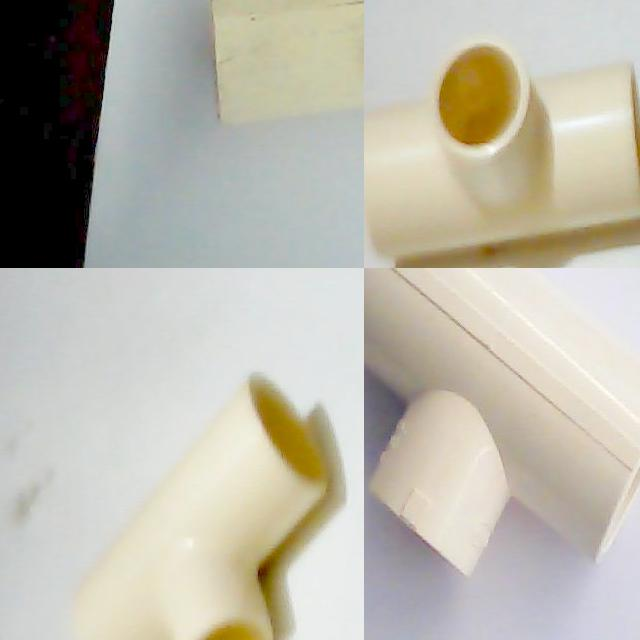T Joint: (364, 268, 640, 579), (72, 374, 329, 640), (364, 34, 640, 260)
